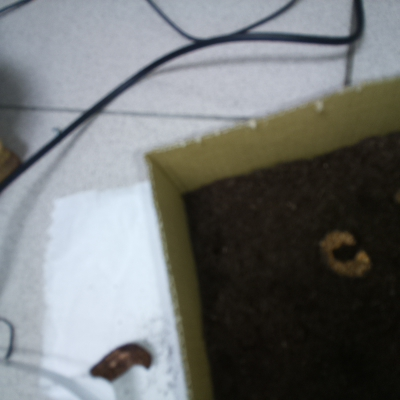eggs: (314, 223, 376, 282)
